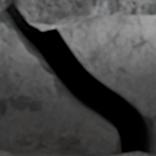brick: (0, 150, 60, 155), (115, 153, 149, 155)
broken_brick: (15, 0, 155, 28), (0, 0, 11, 15)
crack: (2, 0, 153, 155)
